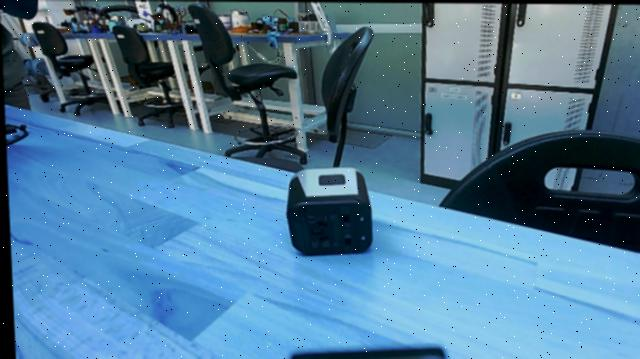adapter: (272, 163, 376, 259)
